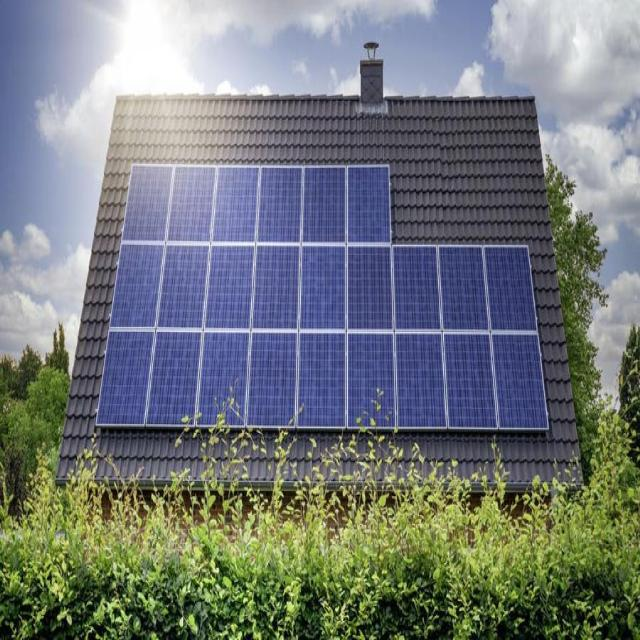clean-solar-panel: (97, 162, 549, 427)
